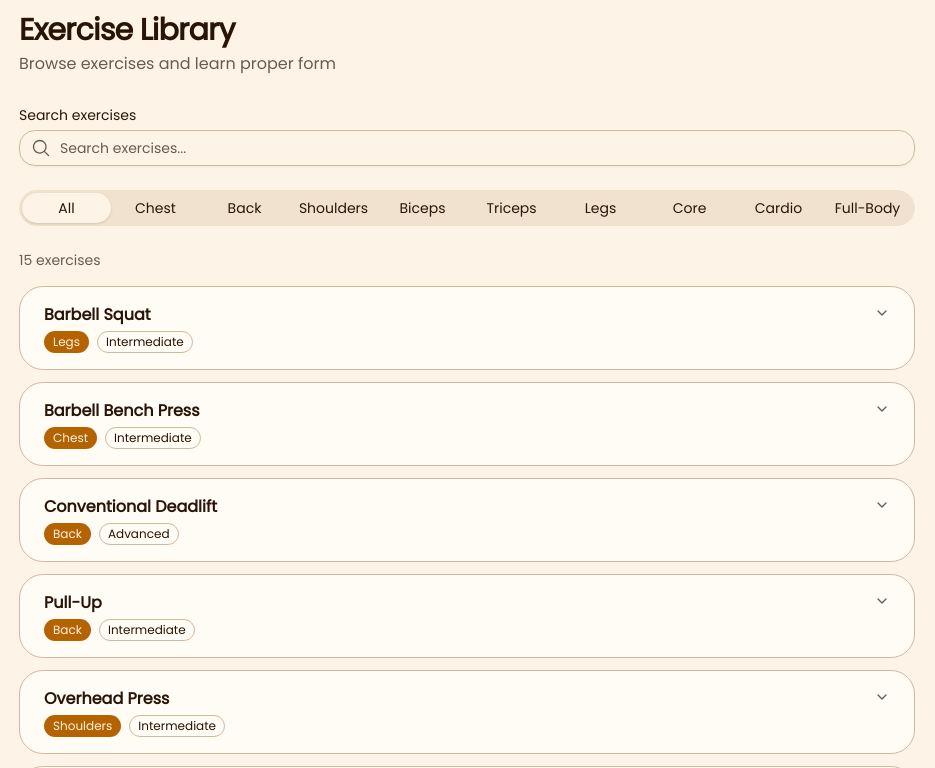
Test: LibraryView - Behavior › should show empty state when no exercises match search
In the field labelled "Search exercises": (467, 148) top-left (19, 130), bottom-right (915, 166), type "zzzznonexistent"
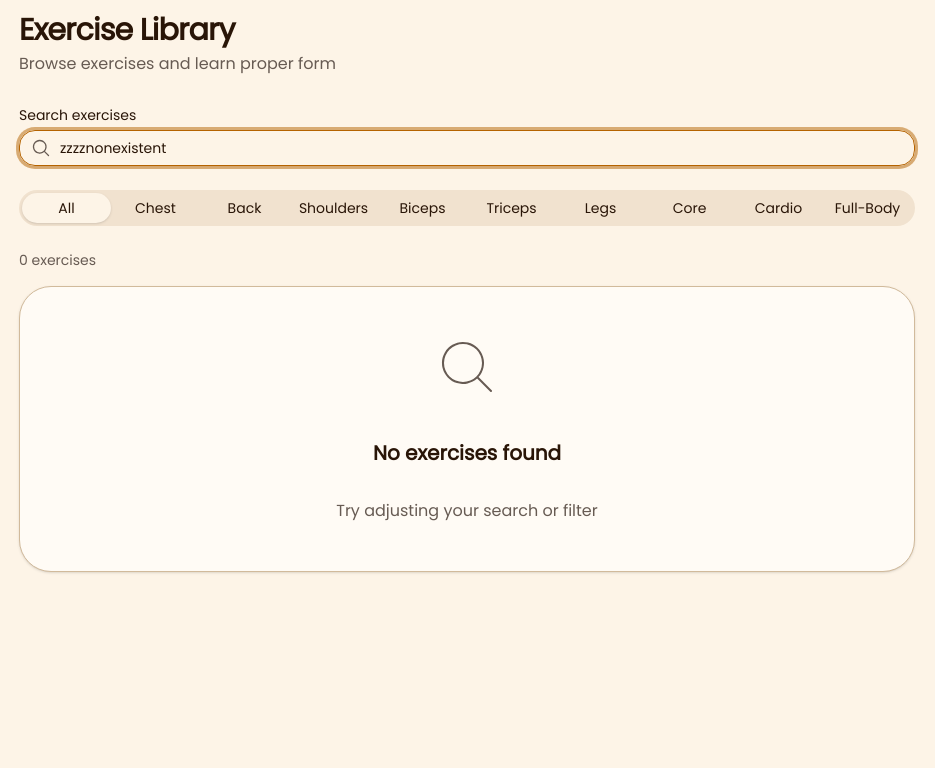
Check: the heading "No exercises found" is shown, box top-left (373, 439), bottom-right (561, 467)
Check: the text "Try adjusting your search or filter" is shown, box top-left (336, 499), bottom-right (598, 522)
